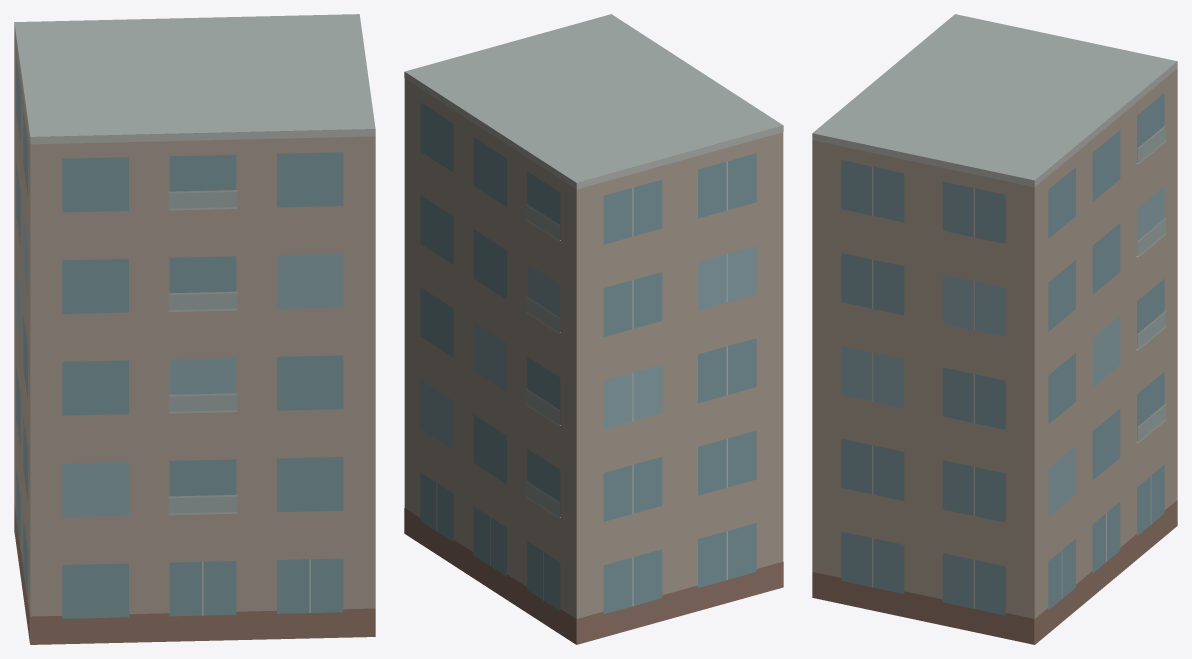
The model's file is survey-upis-32898346.glb.
The picture shows the model from 3 angles, left to right: view 1: azimuth 30°, elevation 25°; view 2: azimuth 150°, elevation 25°; view 3: azimuth 270°, elevation 25°; orthographic projection. The views are drawn at different scales.
Parts seen in each view (by area): view 1: survey-upis-32898346.tmp; view 2: survey-upis-32898346.tmp; view 3: survey-upis-32898346.tmp.
Boxes of the visible parts, <box> form: survey-upis-32898346.tmp: <box>14,14,375,644</box>; survey-upis-32898346.tmp: <box>404,14,783,644</box>; survey-upis-32898346.tmp: <box>812,14,1177,644</box>.
Size of the model in its own units: 12.77 by 16.6 by 11.84.
